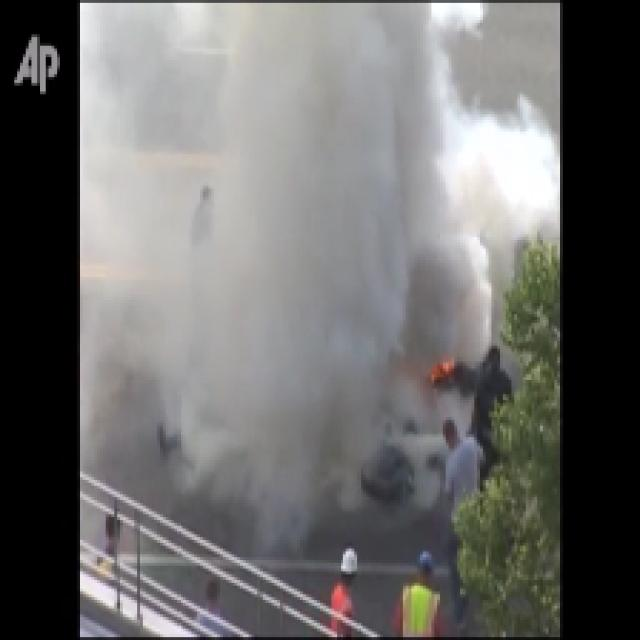smoke: (82, 4, 412, 390), (422, 115, 518, 356)
